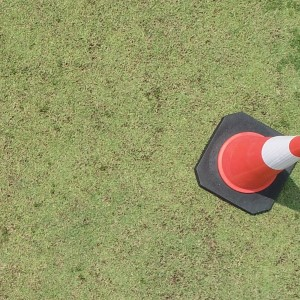traffic cone: (194, 111, 300, 216)
